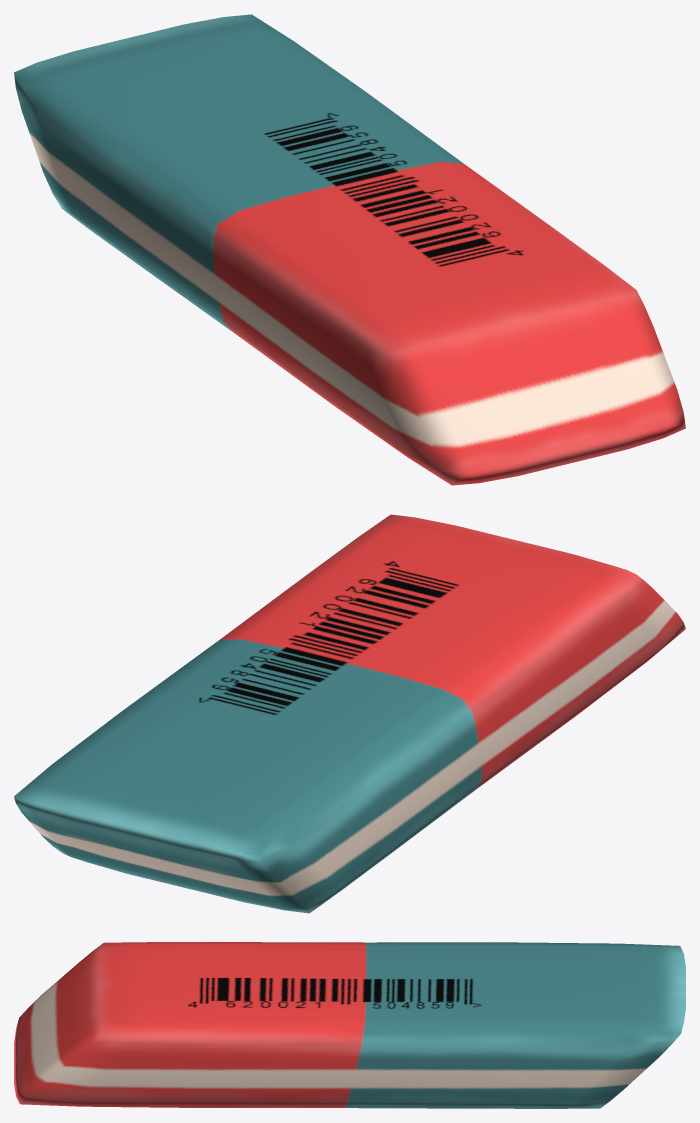
The model's file is Eraser_OBJ.obj.
The picture shows the model from 3 angles, top to bottom: view 1: azimuth 30°, elevation 25°; view 2: azimuth 150°, elevation 25°; view 3: azimuth 270°, elevation 25°; orthographic projection. The views are drawn at different scales.
Parts seen in each view (by area): view 1: eraser_geo; view 2: eraser_geo; view 3: eraser_geo.
Part boxes in pixels (x1,y1,x2,y2): eraser_geo: (14, 14, 685, 485); eraser_geo: (14, 514, 685, 913); eraser_geo: (14, 942, 685, 1108).
Size of the model in its own units: 5.63 by 2.36 by 16.22.
1 material, 1 textured.
